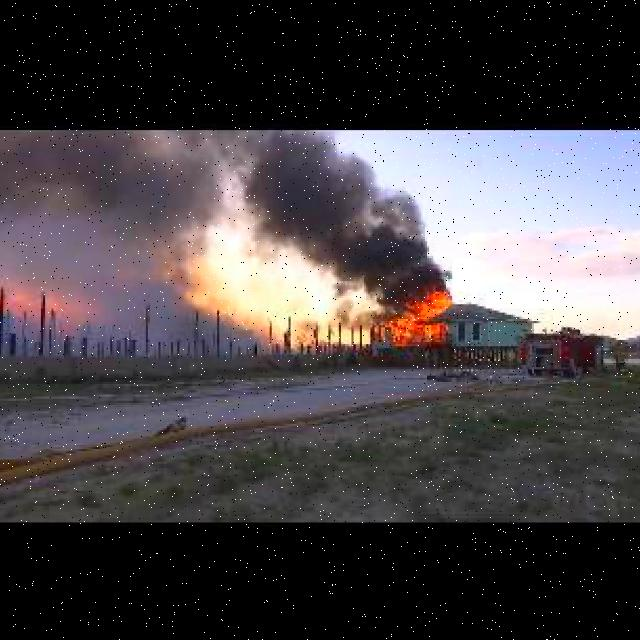fire: (381, 281, 456, 346)
smoke: (0, 128, 459, 277)
